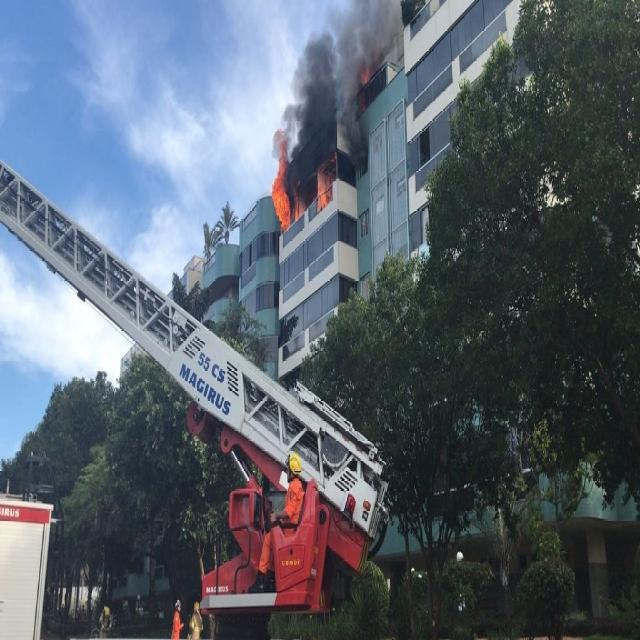Fire: (271, 128, 291, 230), (316, 168, 333, 208)
Smoke: (341, 0, 404, 151), (292, 44, 316, 215), (318, 34, 340, 166)
